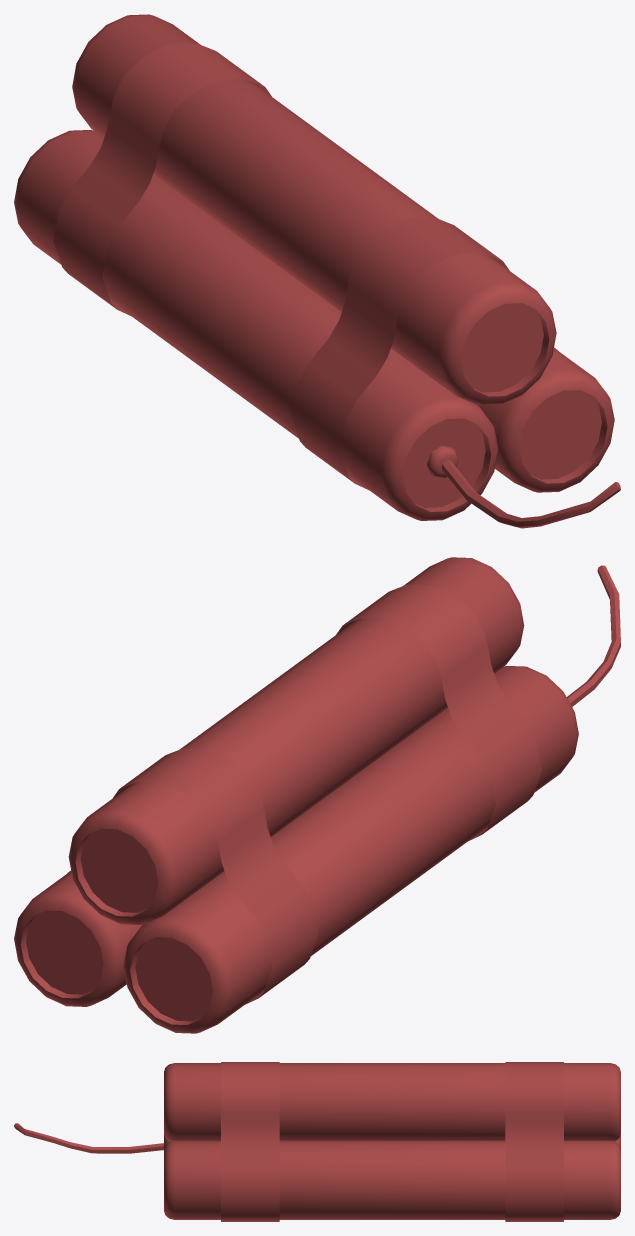
Rendered from DynamiteObj.fbx.
3 views of the same model, one above another, from view 1: azimuth 30°, elevation 25°; view 2: azimuth 150°, elevation 25°; view 3: azimuth 270°, elevation 25° (orthographic). The views are drawn at different scales.
Visible parts, largest first — view 1: DynamiteObj; view 2: DynamiteObj; view 3: DynamiteObj.
Part boxes in pixels (x1,y1,x2,y2): DynamiteObj: (14, 14, 620, 528); DynamiteObj: (14, 557, 620, 1033); DynamiteObj: (14, 1062, 620, 1221).
Bounding box in the file's own units: 5.37 × 4.83 × 20.
